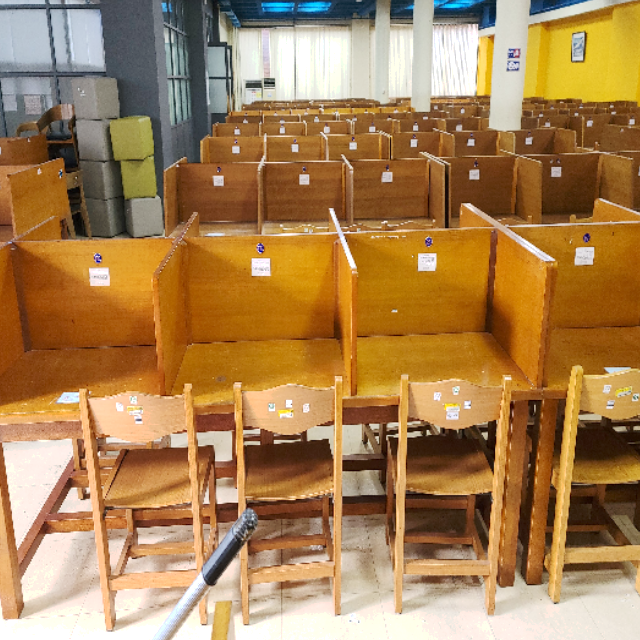empty: (174, 234, 351, 485), (362, 237, 545, 477), (2, 238, 165, 496)
